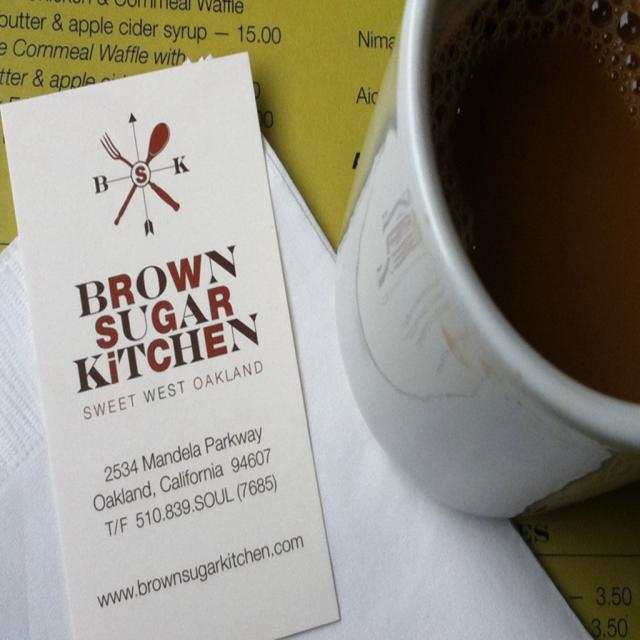Coffee: (357, 0, 639, 511)
Tea: (425, 0, 639, 402)
